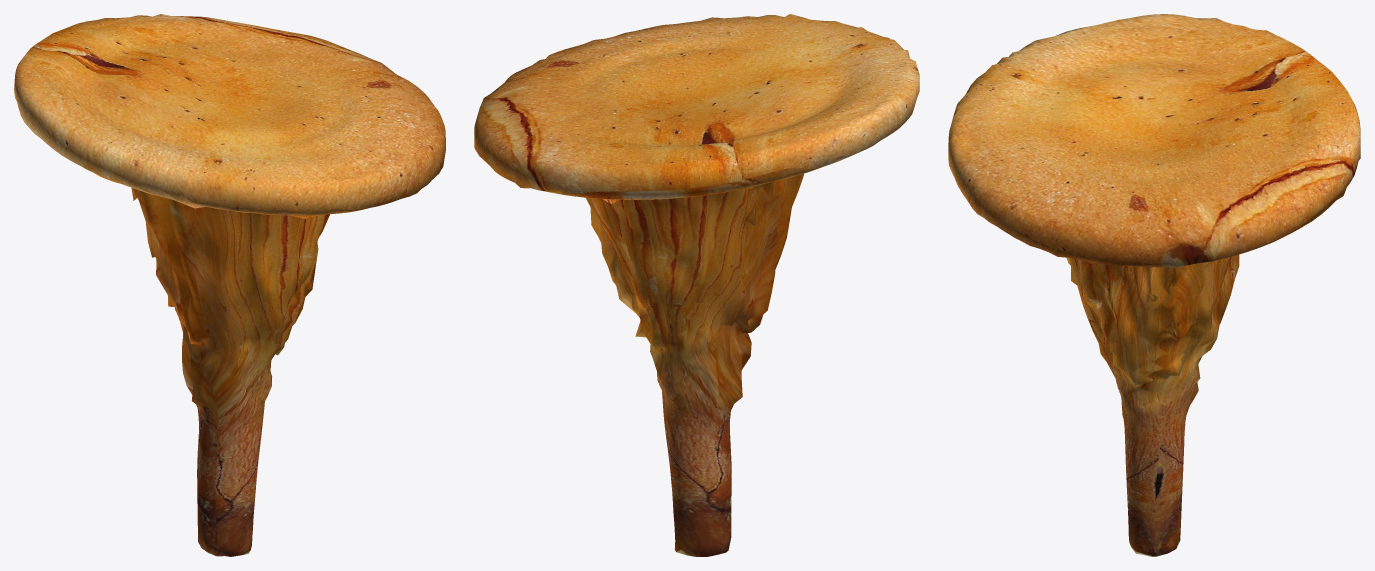
The model's file is falscher_pfifferling.glb.
3 views of the same model, side by side, from view 1: azimuth 30°, elevation 25°; view 2: azimuth 150°, elevation 25°; view 3: azimuth 270°, elevation 25° (orthographic). The views are drawn at different scales.
Parts seen in each view (by area): view 1: pfifferling.001; view 2: pfifferling.001; view 3: pfifferling.001.
Boxes of the visible parts, x1,y1,x2,y2 form: pfifferling.001: [14, 14, 445, 556]; pfifferling.001: [474, 14, 919, 556]; pfifferling.001: [948, 14, 1360, 556].
Size of the model in its own units: 0.4073 by 0.4993 by 0.4115.
1 material, 1 textured.
